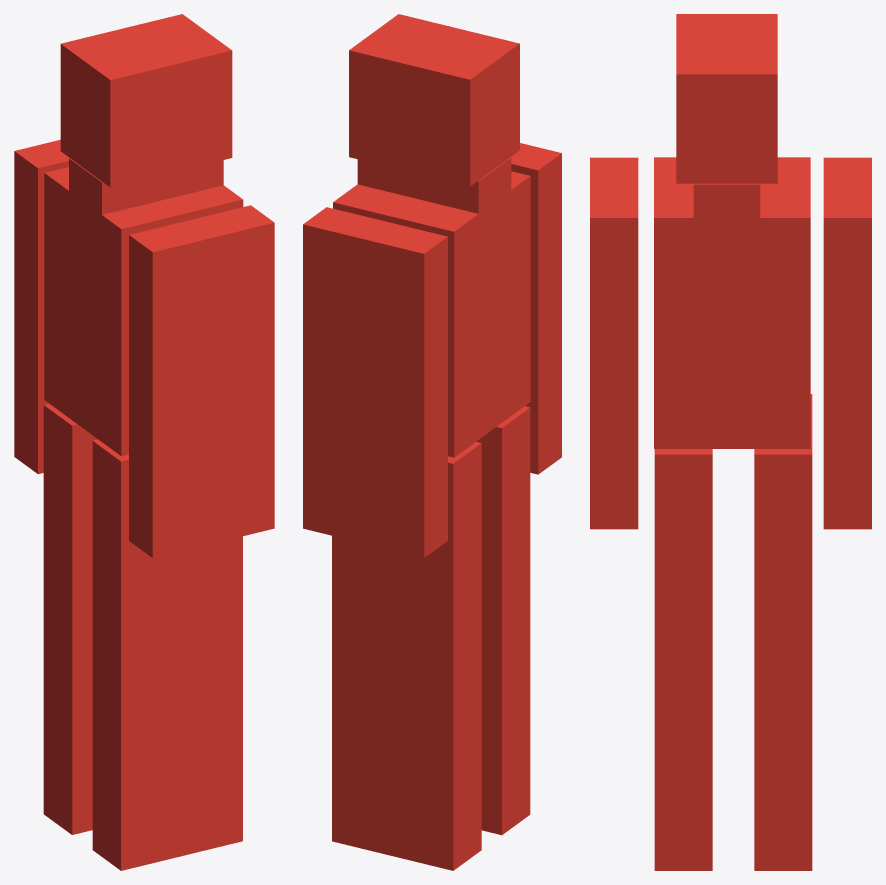
File: anitahumanred.glb
3 renders of one model, left to right at view 1: azimuth 30°, elevation 25°; view 2: azimuth 150°, elevation 25°; view 3: azimuth 270°, elevation 25°, orthographic. The views are drawn at different scales.
Parts seen in each view (by area): view 1: LLeg, LArm, Head, Torso, RLeg, RArm, Neck; view 2: RLeg, RArm, Head, Torso, LLeg, LArm, Neck; view 3: Torso, RLeg, LLeg, LArm, RArm, Head, Neck.
Part boxes in pixels (x1,y1,x2,y2): LLeg: [92, 439, 242, 870]; LArm: [129, 205, 274, 557]; Head: [60, 14, 232, 187]; Torso: [44, 167, 243, 456]; RLeg: [43, 403, 97, 834]; RArm: [14, 139, 69, 474]; Neck: [69, 158, 223, 214]; RLeg: [332, 441, 481, 870]; RArm: [303, 207, 447, 557]; Head: [349, 14, 519, 186]; Torso: [333, 171, 530, 457]; LLeg: [476, 406, 530, 835]; LArm: [511, 143, 561, 474]; Neck: [357, 157, 511, 213]; Torso: [654, 157, 810, 448]; RLeg: [754, 394, 812, 870]; LLeg: [654, 449, 712, 870]; LArm: [590, 157, 638, 529]; RArm: [823, 157, 871, 529]; Head: [676, 14, 777, 183]; Neck: [693, 183, 760, 218].
Size of the model in its own units: 0.3545 by 2.18 by 0.6979.
